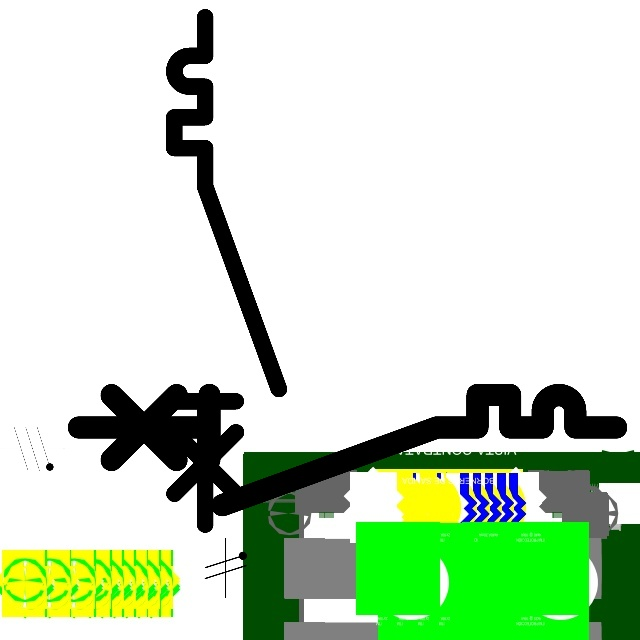interruptor_termomagnetico: (64, 381, 629, 519), (161, 4, 291, 538)
